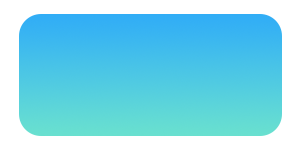

This screenshot's page, from the dashboard's own definition file:
{"tool":"powerbi","page":{"name":"Tooltip1","canvas":[160,70],"ordinal":5},"visuals":[{"type":"shape","box":[0,0,158.4,70],"z":0},{"type":"textbox","box":[9.9,-0.1,91,32],"z":1000},{"type":"textbox","box":[11.2,16.4,91,32],"z":2000},{"type":"card","fields":{"Values":["Sum(Orders.Sales)"]},"box":[75.9,2.9,71,26],"z":3000},{"type":"card","fields":{"Values":["Orders.Profit Margin %"]},"box":[58.2,18.4,44,26],"z":4000},{"type":"textbox","box":[8.3,31.9,91,32],"z":5000},{"type":"card","fields":{"Values":["Sum(Orders.Profit)"]},"box":[75.8,35.2,64.2,26.1],"z":6000}]}

Visuals, with their boxes on the page's 160x70 design canvas (x1, y1, x2, y2). These are canvas units, not pixel positions in the 301x164 screenshot, which may show the page scaled, cropped or inside an application window:
shape: [0, 0, 158, 70]
textbox: [10, 0, 101, 32]
textbox: [11, 16, 102, 48]
card - Sum(Orders.Sales): [76, 3, 147, 29]
card - Orders.Profit Margin %: [58, 18, 102, 44]
textbox: [8, 32, 99, 64]
card - Sum(Orders.Profit): [76, 35, 140, 61]
